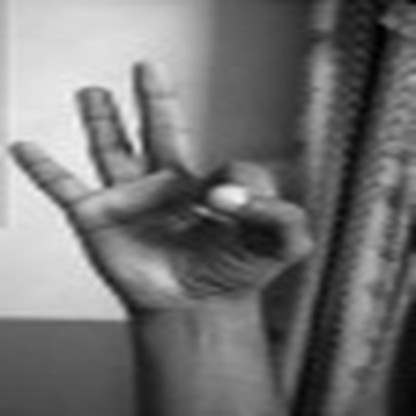f: (5, 48, 318, 304)
